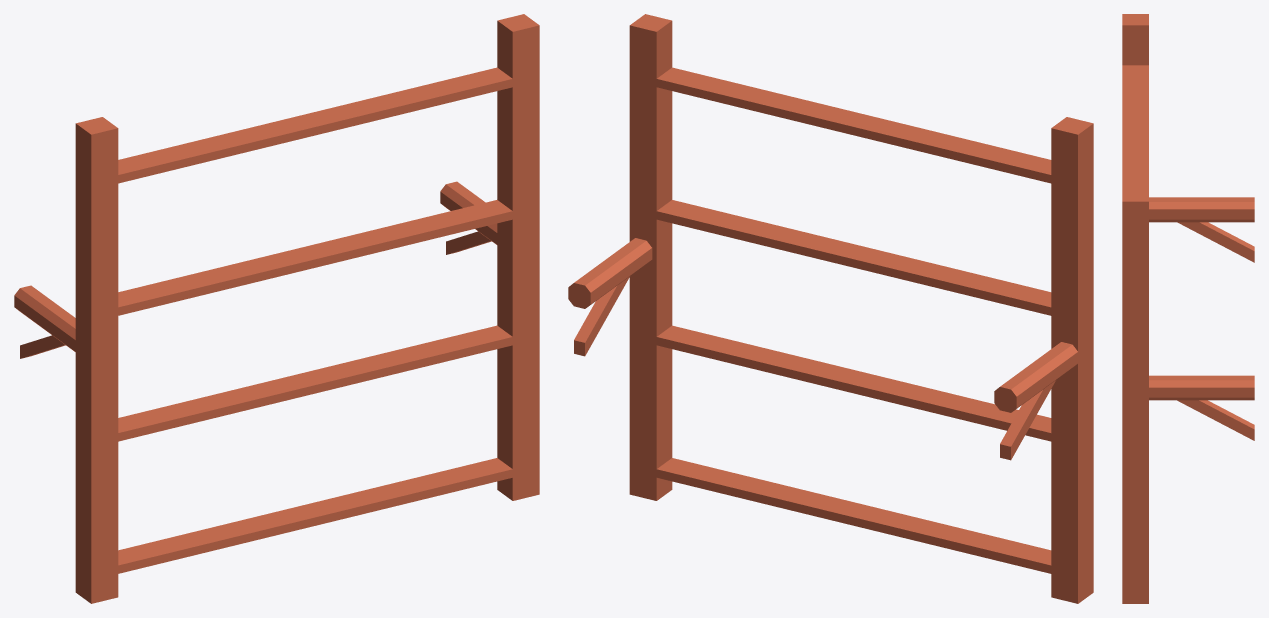
The model's file is palier.fbx.
3 renders of one model, left to right at view 1: azimuth 30°, elevation 25°; view 2: azimuth 150°, elevation 25°; view 3: azimuth 270°, elevation 25°, orthographic. The views are drawn at different scales.
Visible parts, largest first — view 1: mergedBlocks; view 2: mergedBlocks; view 3: mergedBlocks.
Part boxes in pixels (box(x1,y1,x2,y2)): mergedBlocks: box(14, 14, 539, 603); mergedBlocks: box(568, 14, 1093, 603); mergedBlocks: box(1122, 14, 1254, 603).
Bounding box in the file's own units: 10 × 10 × 2.98.
